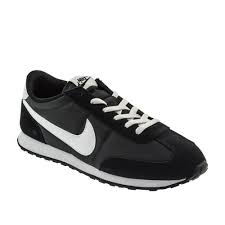nike: (25, 101, 99, 158)
